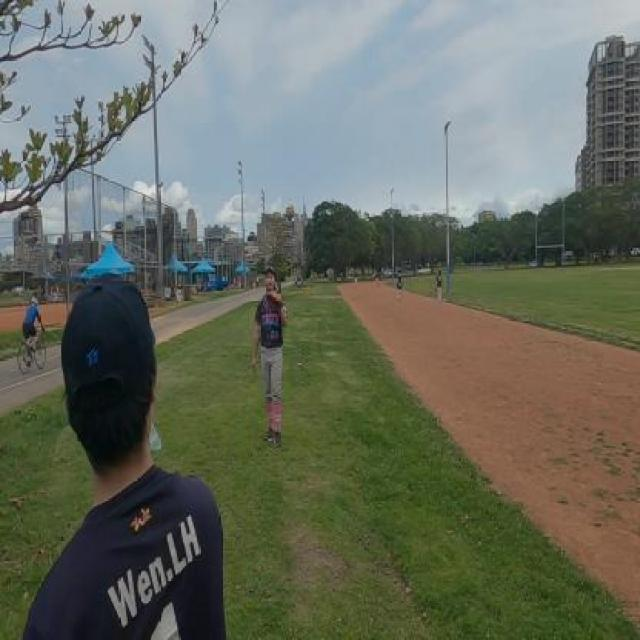baseball: (286, 203, 294, 222)
